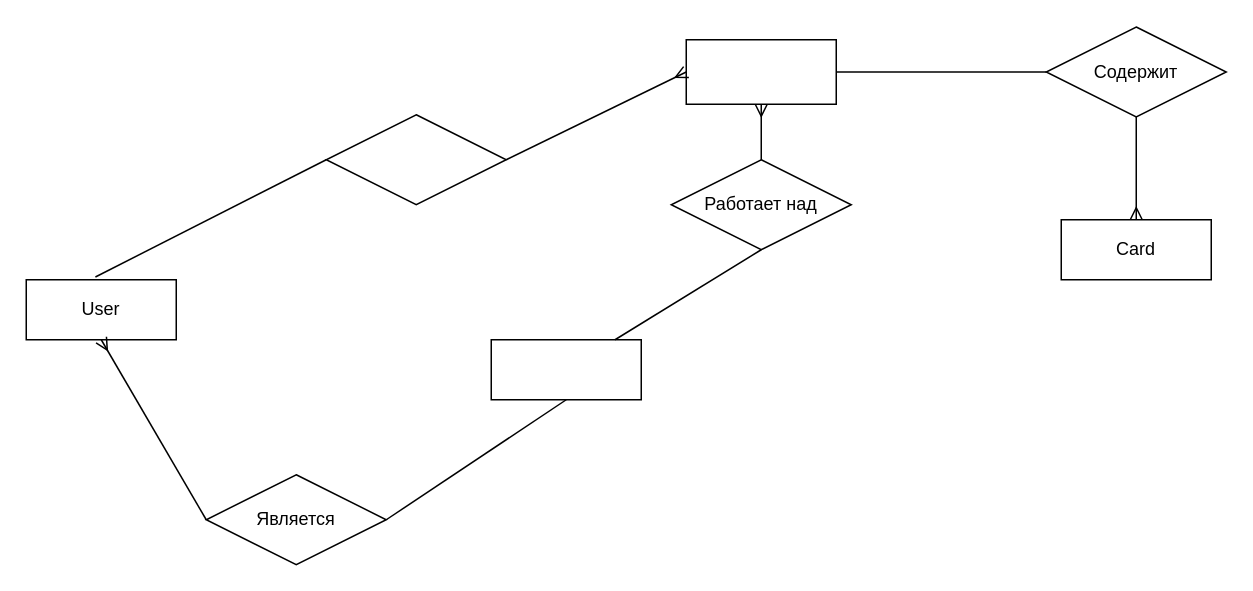
Image size: 1253x591. Some labels were removed from this diagram. Here are the shapes that lost their labels. From the top down, the centre of each, then its label:
At point (760, 71): "Collection".
At point (415, 159): "Создаёт".
At point (565, 369): "Editor".
